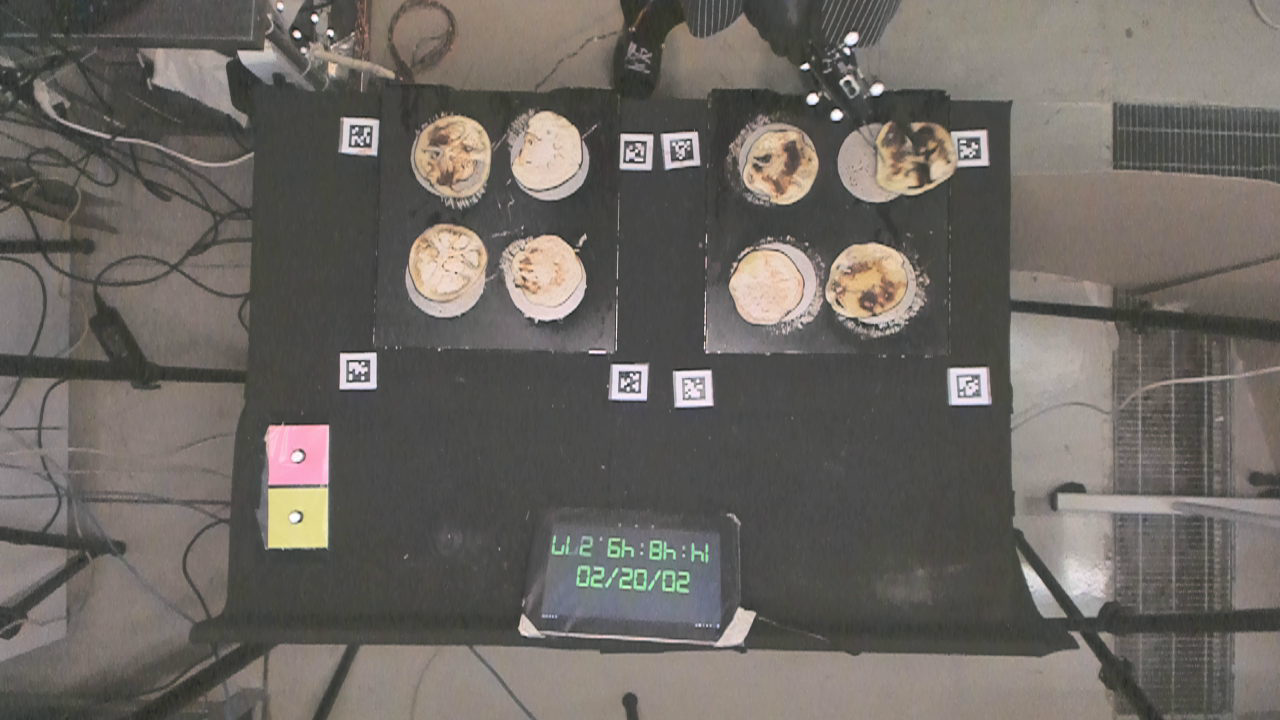eggplant: (407, 222, 490, 302), (413, 118, 492, 200), (828, 242, 912, 319), (727, 244, 805, 326), (877, 118, 958, 195), (746, 128, 819, 205), (511, 110, 582, 189), (511, 234, 585, 308)
marker: (268, 424, 329, 485)
